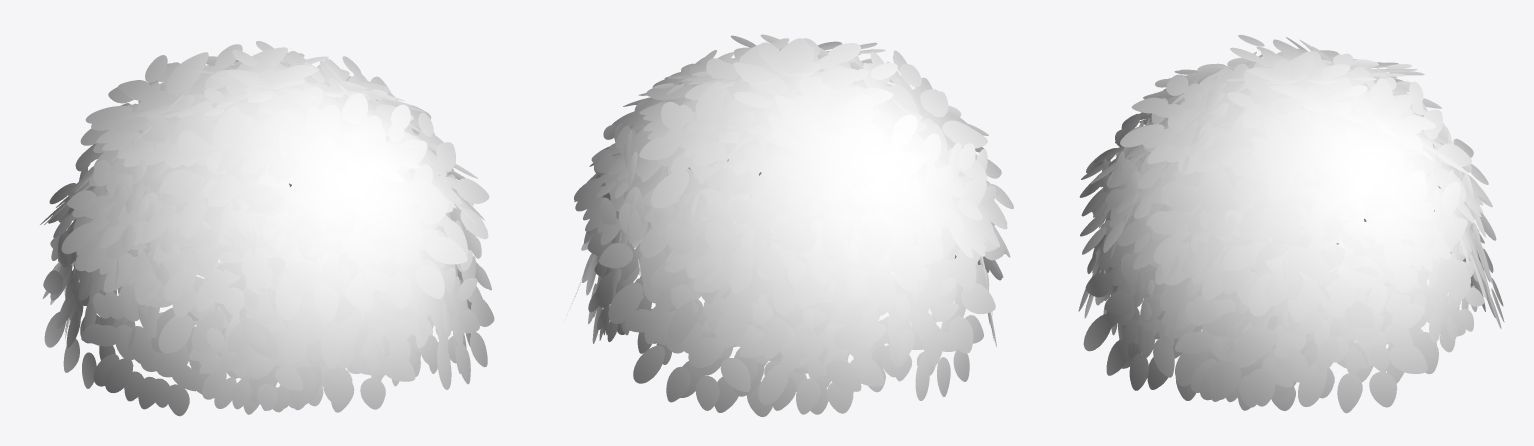
The picture shows the model from 3 angles, left to right: view 1: azimuth 30°, elevation 25°; view 2: azimuth 150°, elevation 25°; view 3: azimuth 270°, elevation 25°; orthographic projection. The views are drawn at different scales.
Parts seen in each view (by area): view 1: Bush; view 2: Bush; view 3: Bush.
Boxes of the visible parts, <box> form: Bush: <box>40,41,494,416</box>; Bush: <box>566,34,1013,416</box>; Bush: <box>1078,35,1504,413</box>.
Bounding box in the file's own units: 1.09 × 0.6916 × 1.05.
Materials: 1 (1 with a texture image).
